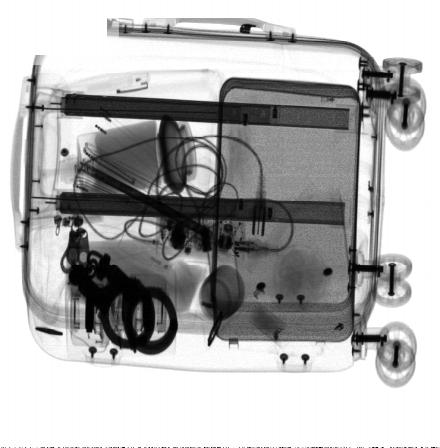HandCuffs: (67, 248, 179, 358)
